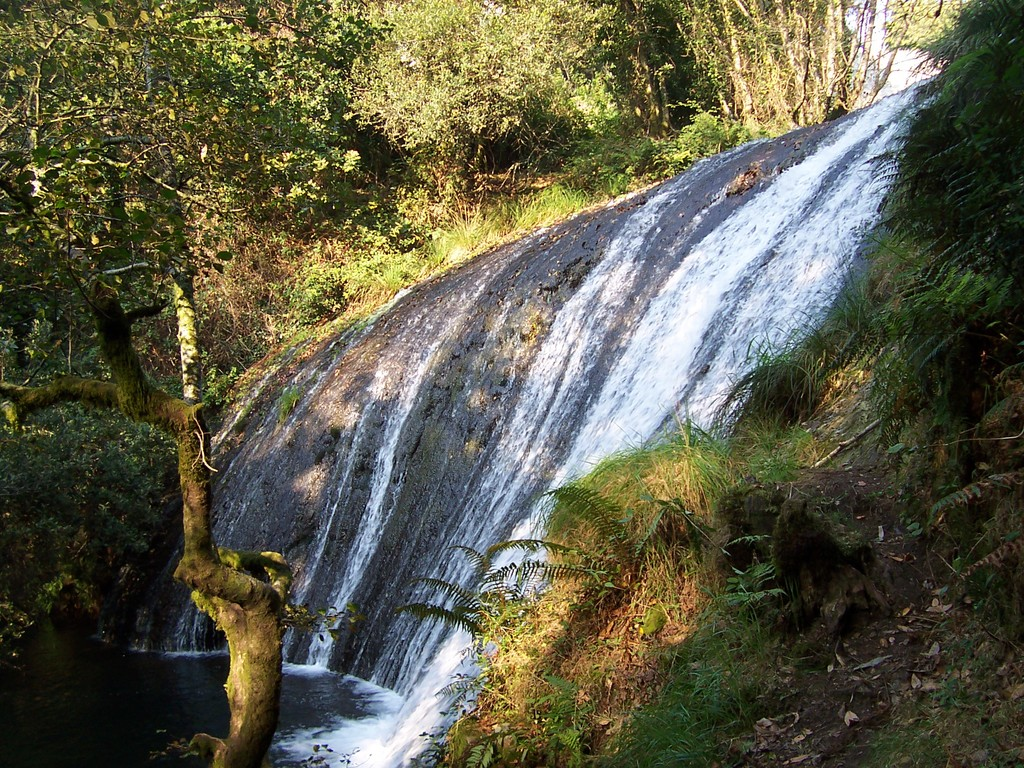Tree: (0, 0, 396, 767), (391, 0, 901, 224)
